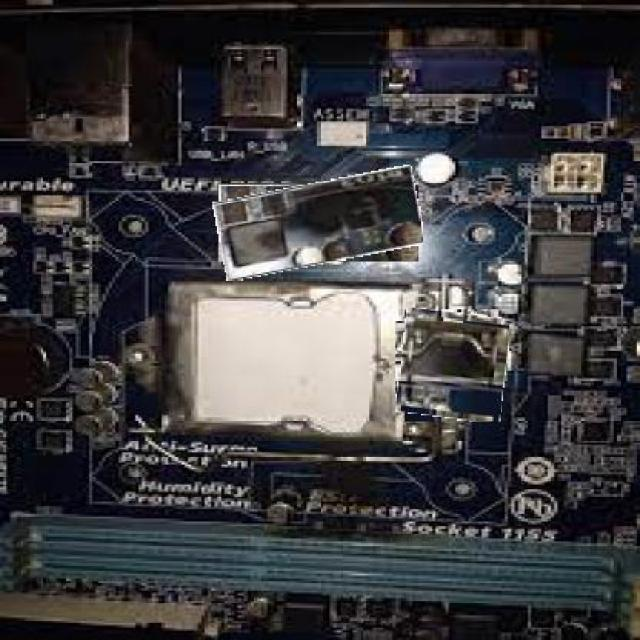Burn: (215, 174, 423, 272), (398, 310, 508, 422)
